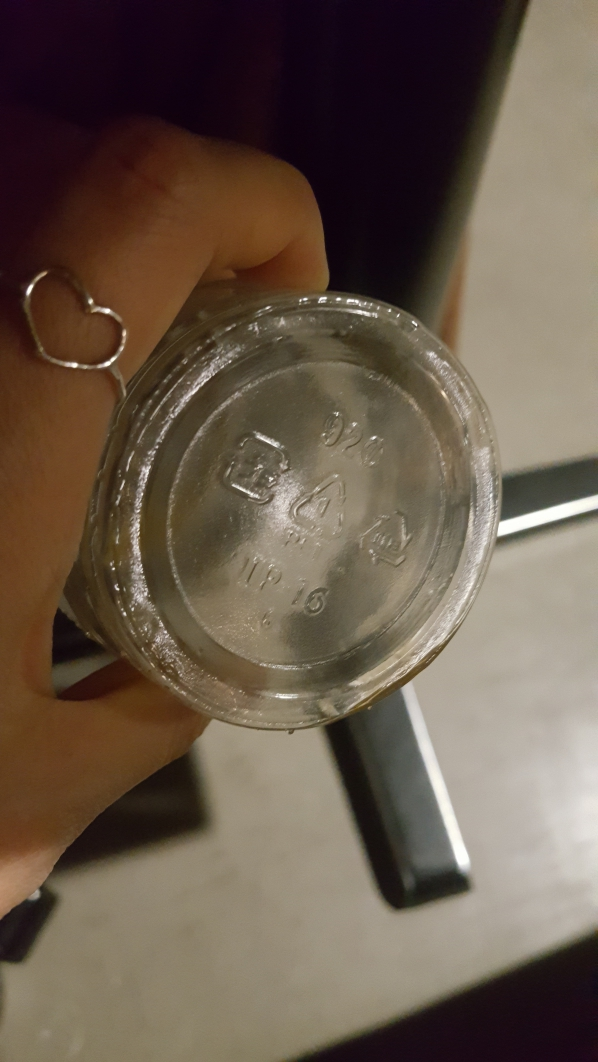recycle: (285, 458, 351, 556)
